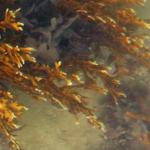alive: (1, 4, 148, 147)
